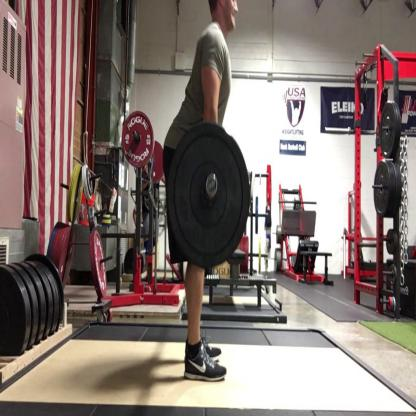Barbell: (163, 115, 255, 270), (119, 107, 157, 172)
